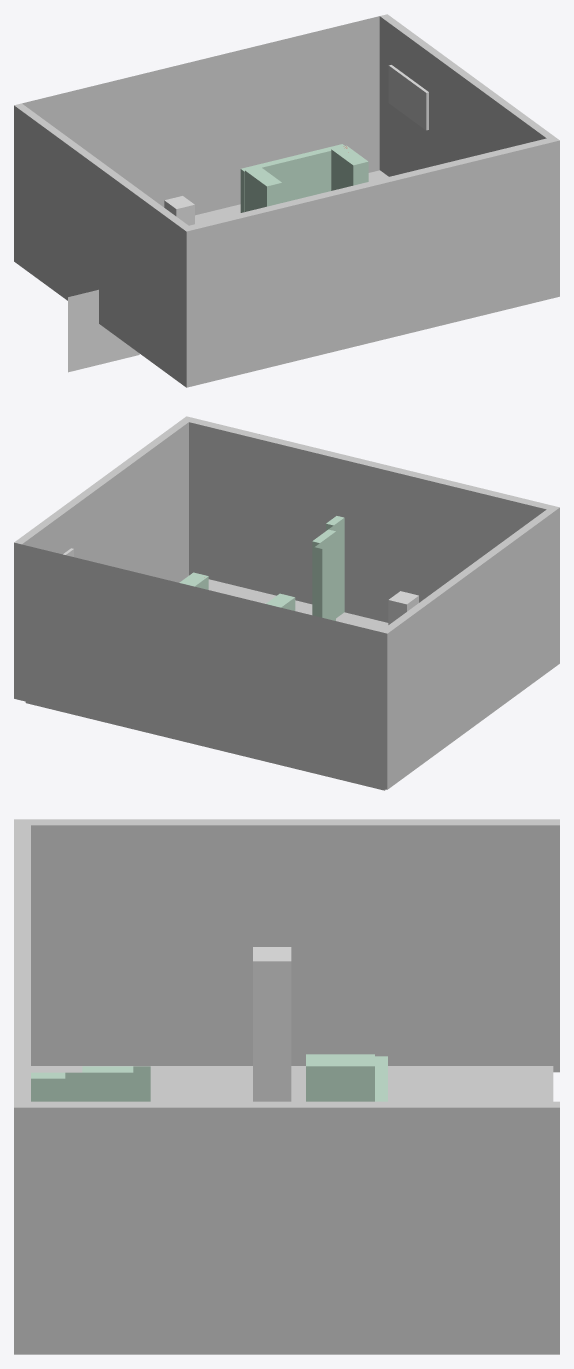
Rendered from 电站间.glb.
3 renders of one model, top to bottom at view 1: azimuth 30°, elevation 25°; view 2: azimuth 150°, elevation 25°; view 3: azimuth 270°, elevation 25°, orthographic. The views are drawn at different scales.
Parts seen in each view (by area): view 1: Obstruction.023, Obstruction.027, Obstruction.022, Obstruction.026, 01.001, Obstruction.020, Hole.003, Obstruction.019, Obstruction.018, Obstruction.021, Obstruction.016; view 2: Obstruction.027, Obstruction.023, Obstruction.022, Obstruction.026, Obstruction.016, Obstruction.024, Obstruction.025, Obstruction.021, Obstruction.028; view 3: Obstruction.026, Obstruction.022, Obstruction.016, Obstruction.023, Obstruction.021, Obstruction.018, Obstruction.024, Obstruction.025, Obstruction.029.
Boxes of the visible parts, x1,y1,x2,y2 form: Obstruction.023: [181, 136, 559, 387]; Obstruction.027: [22, 16, 379, 215]; Obstruction.022: [14, 103, 188, 383]; Obstruction.026: [379, 14, 554, 176]; 01.001: [68, 289, 139, 372]; Obstruction.020: [240, 144, 344, 212]; Hole.003: [388, 65, 428, 130]; Obstruction.019: [331, 145, 368, 190]; Obstruction.018: [245, 166, 282, 211]; Obstruction.021: [164, 196, 194, 225]; Obstruction.016: [195, 170, 388, 223]; Obstruction.027: [21, 544, 379, 787]; Obstruction.023: [181, 416, 559, 666]; Obstruction.022: [379, 509, 554, 789]; Obstruction.026: [14, 420, 188, 700]; Obstruction.016: [25, 579, 388, 790]; Obstruction.024: [312, 529, 335, 620]; Obstruction.025: [326, 516, 344, 618]; Obstruction.021: [388, 591, 418, 624]; Obstruction.028: [314, 547, 322, 617]; Obstruction.026: [31, 1101, 559, 1354]; Obstruction.022: [31, 819, 559, 1072]; Obstruction.016: [31, 1066, 553, 1101]; Obstruction.023: [14, 819, 30, 1354]; Obstruction.021: [253, 947, 291, 1101]; Obstruction.018: [306, 1054, 374, 1101]; Obstruction.024: [82, 1066, 133, 1101]; Obstruction.025: [31, 1072, 65, 1101]; Obstruction.029: [133, 1066, 150, 1101].
Size of the model in its own units: 11.27 by 5.25 by 8.32.
